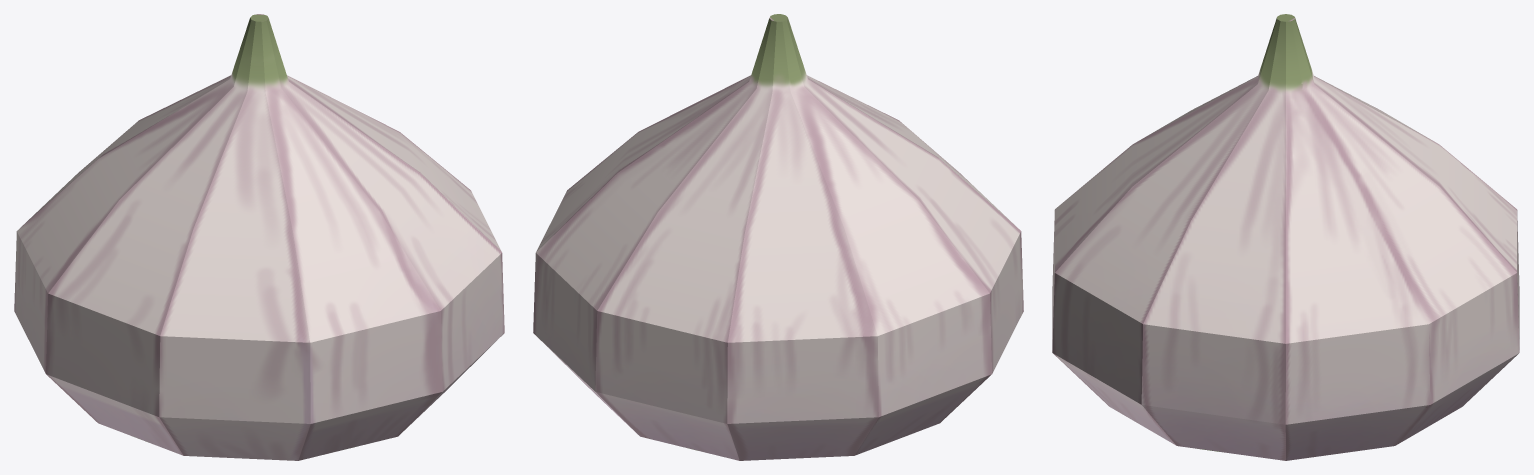
Rendered from garlic 1.fbx.
3 renders of one model, left to right at view 1: azimuth 30°, elevation 25°; view 2: azimuth 150°, elevation 25°; view 3: azimuth 270°, elevation 25°, orthographic.
Parts seen in each view (by area): view 1: garlic; view 2: garlic; view 3: garlic.
Part boxes in pixels (x1=…): garlic: x1=14, y1=14, x2=504, y2=460; garlic: x1=533, y1=14, x2=1023, y2=460; garlic: x1=1052, y1=14, x2=1519, y2=460.
Bounding box in the file's own units: 18.92 × 15.49 × 17.98.
1 material, 1 textured.
